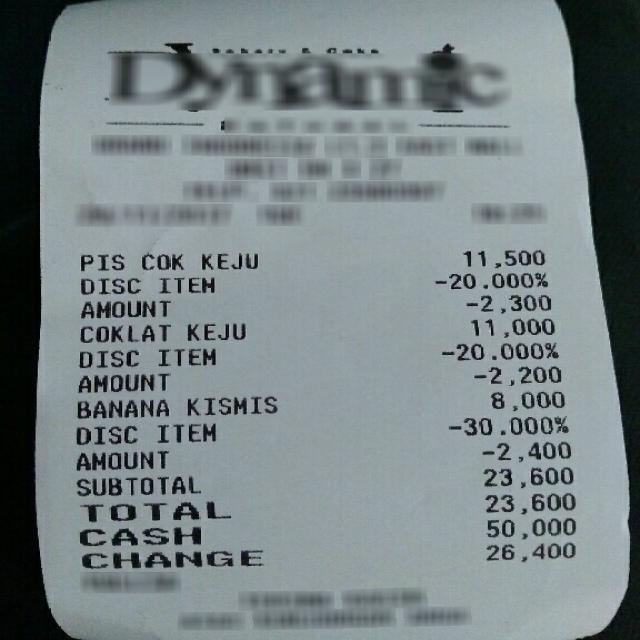kertas: (37, 0, 630, 640)
